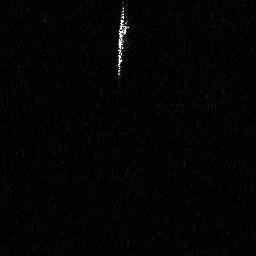ship: (114, 3, 130, 80)
